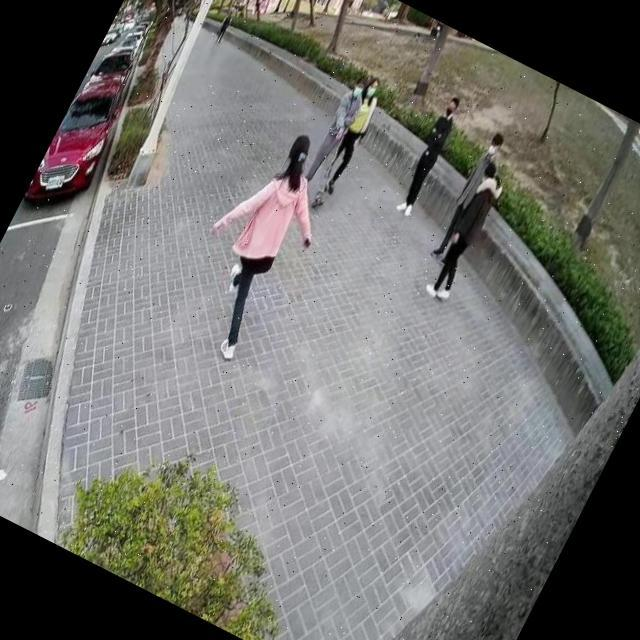person: (156, 107, 359, 376), (420, 155, 518, 307), (426, 126, 520, 273), (292, 69, 386, 212), (388, 88, 473, 224), (312, 72, 394, 201), (210, 5, 239, 47)
